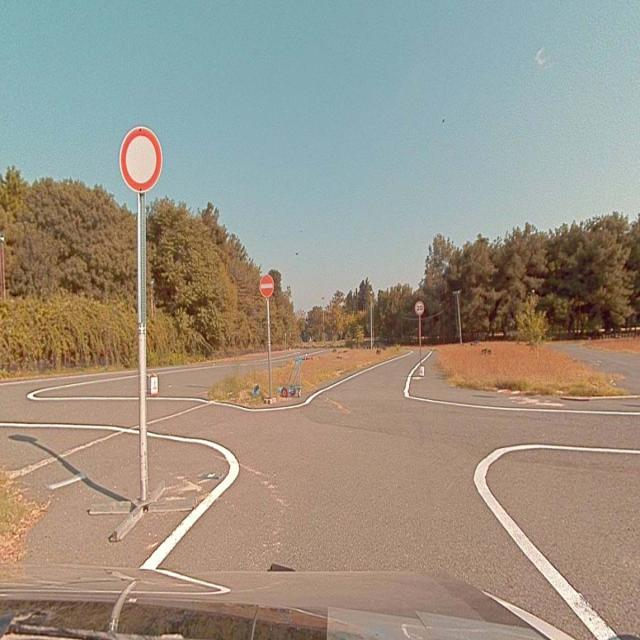20: (416, 302, 424, 314)
girisyok: (260, 275, 274, 296)
